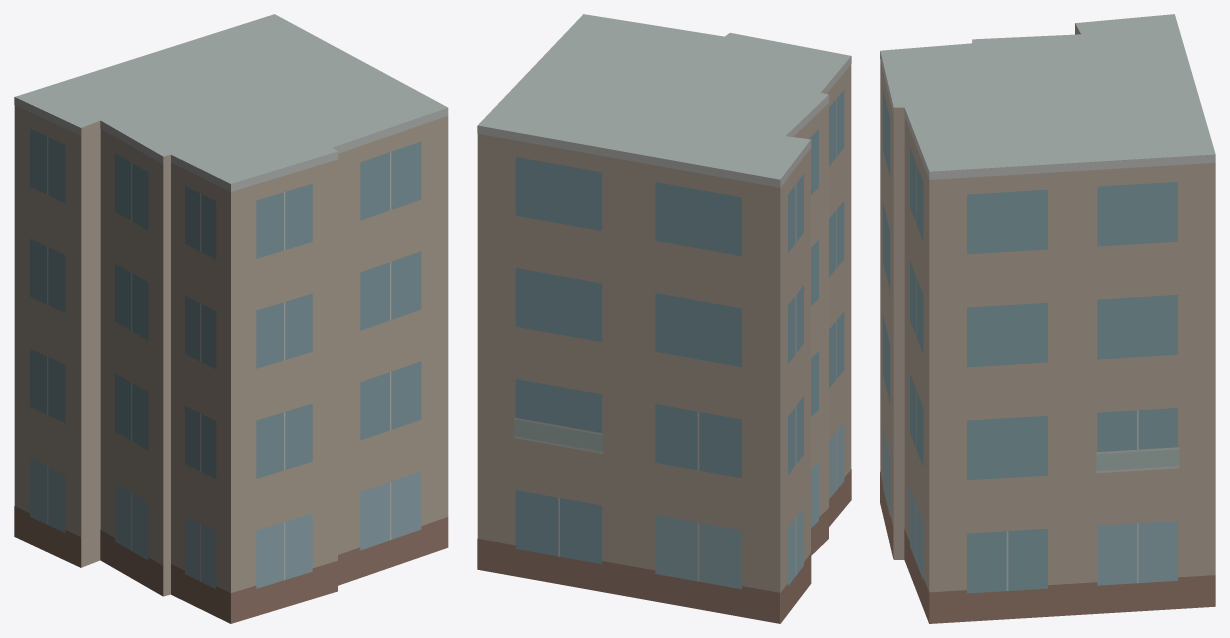
File: survey-upis-32462881.glb
The picture shows the model from 3 angles, left to right: view 1: azimuth 30°, elevation 25°; view 2: azimuth 150°, elevation 25°; view 3: azimuth 270°, elevation 25°; orthographic projection. The views are drawn at different scales.
Visible parts, largest first — view 1: survey-upis-32462881.tmp; view 2: survey-upis-32462881.tmp; view 3: survey-upis-32462881.tmp.
Part boxes in pixels (x1,y1,x2,y2): survey-upis-32462881.tmp: [14, 14, 448, 623]; survey-upis-32462881.tmp: [477, 14, 851, 623]; survey-upis-32462881.tmp: [880, 14, 1215, 623].
Bounding box in the file's own units: 10.03 × 13.4 × 9.02.
